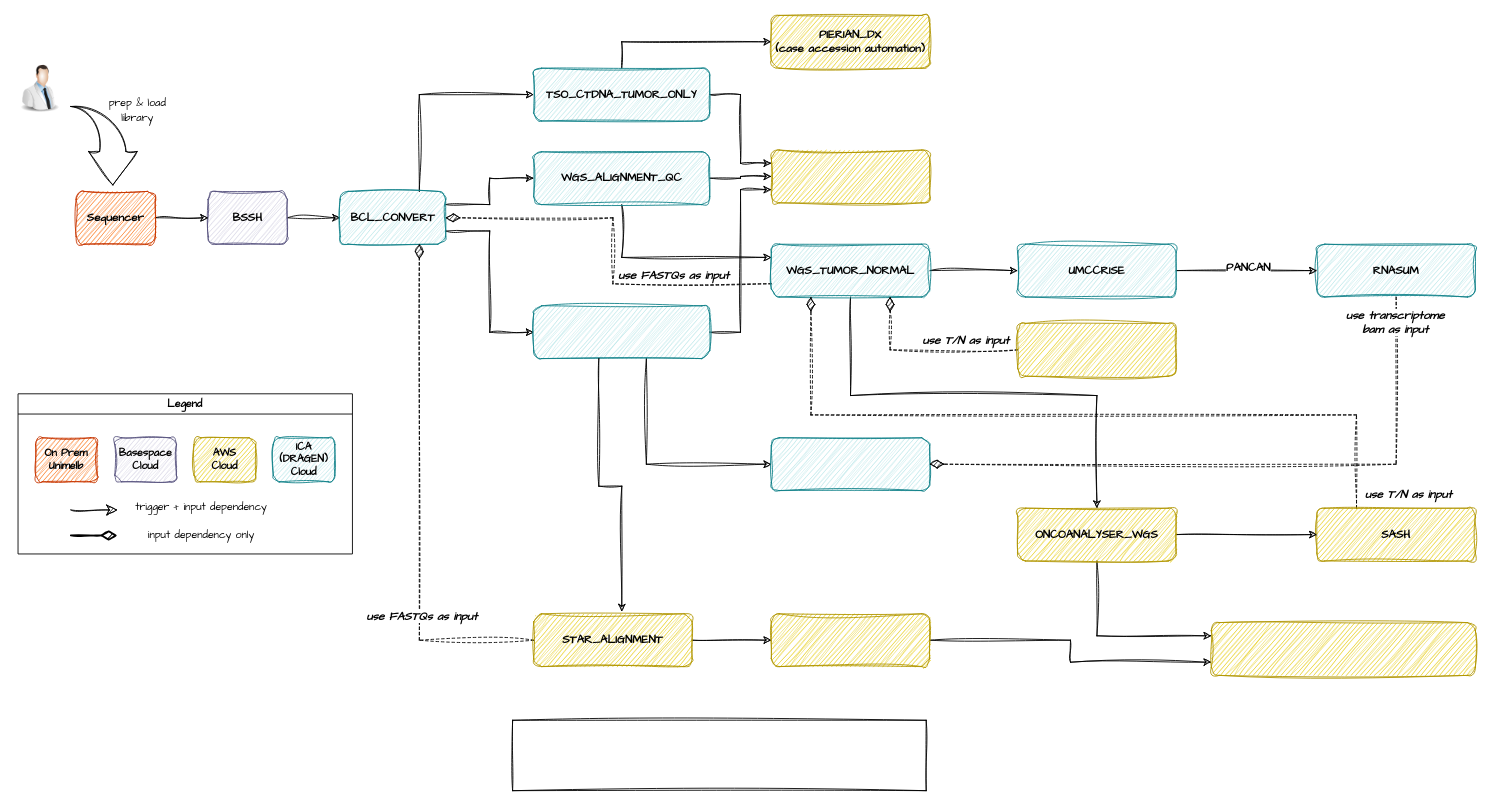
The diagram is 1491 pixels wide and 806 high, and some of its shapes have lost their labels. Here are the shapes that lost their labels. From the top down, the centre of each, then its label:
(x=39, y=88): Lab Team
(x=850, y=176): HOLMES (BAM Fingerprint Extract)
(x=621, y=332): WTS_ALIGNMENT_QC
(x=1096, y=349): GPL
(x=850, y=464): WTS_TUMOR_ONLY
(x=850, y=640): ONCOANALYSER_WTS
(x=1342, y=648): ONCOANALYSER_WGTS_EXISTING_BOTH
(x=719, y=755): UMCCR BioInfo Platform - Automated Pipeline (process flow diagram)
